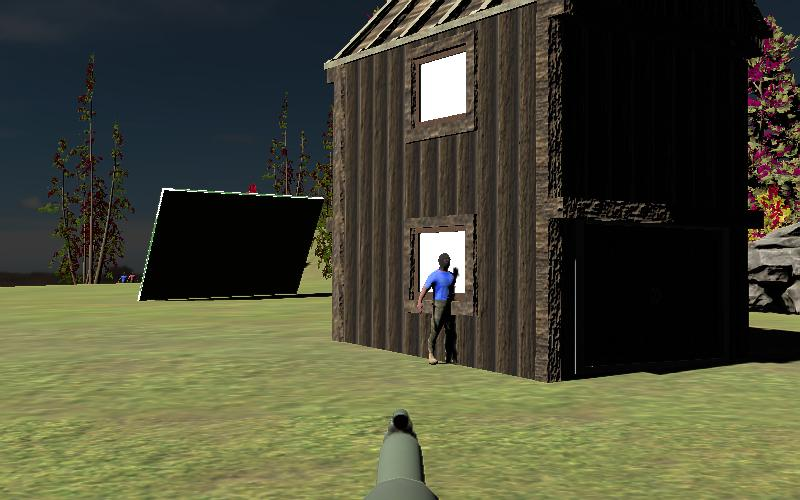House: (322, 2, 767, 381)
Human: (414, 251, 462, 367)
